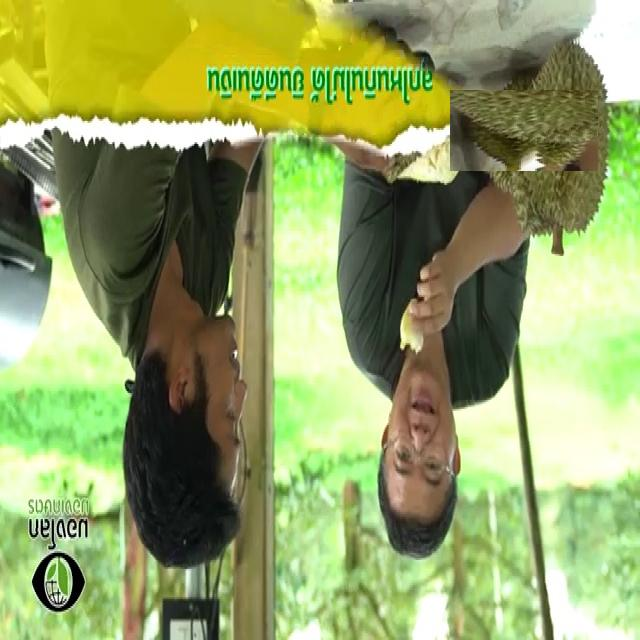durian: (509, 44, 610, 258), (466, 74, 582, 188)
